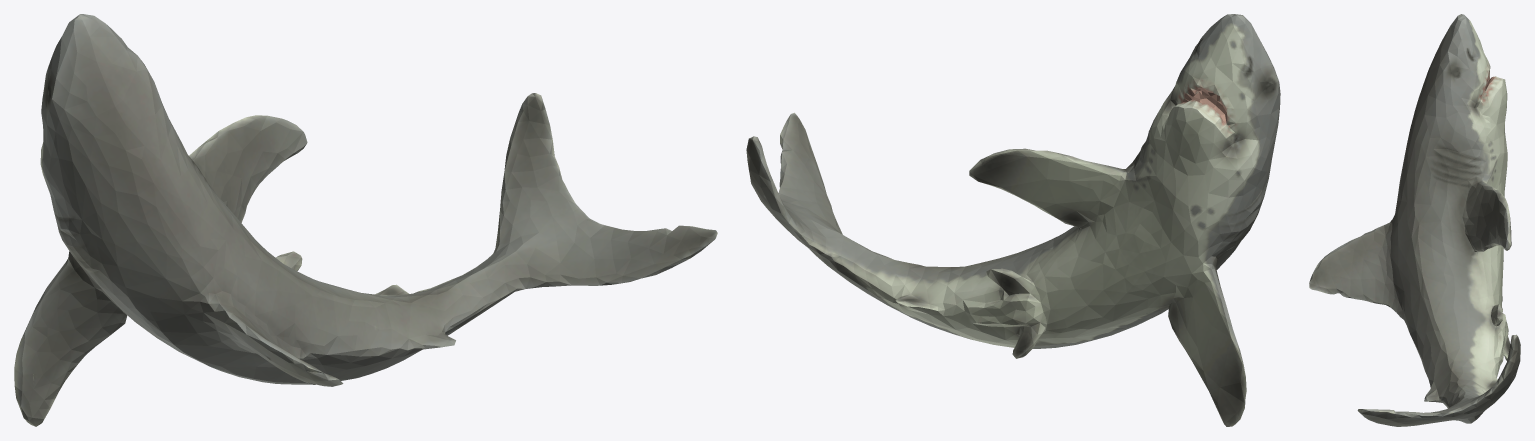
3 renders of one model, left to right at view 1: azimuth 30°, elevation 25°; view 2: azimuth 150°, elevation 25°; view 3: azimuth 270°, elevation 25°, orthographic. The views are drawn at different scales.
Size of the model in its own units: 0.1678 by 0.1142 by 0.0746.
Materials: 1 (1 with a texture image).
